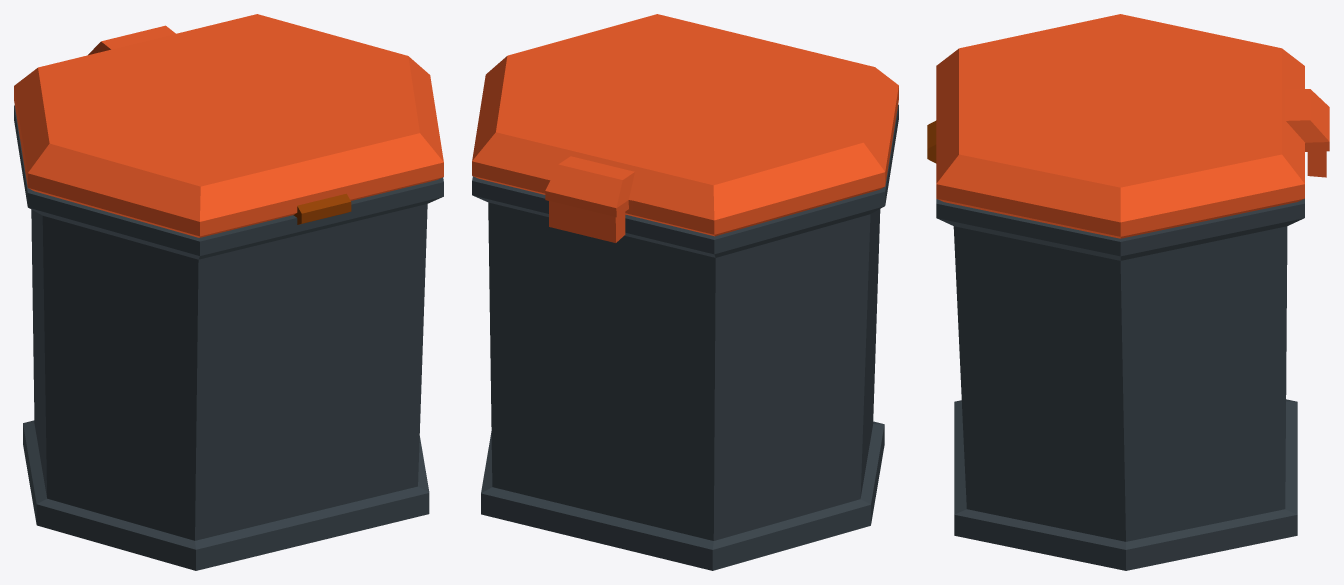
File: Compost_03.fbx
3 views of the same model, side by side, from view 1: azimuth 30°, elevation 25°; view 2: azimuth 150°, elevation 25°; view 3: azimuth 270°, elevation 25° (orthographic).
Parts seen in each view (by area): view 1: Compost_03; view 2: Compost_03; view 3: Compost_03.
Part boxes in pixels (<box>): Compost_03: <box>14,14,443,570</box>; Compost_03: <box>472,14,898,570</box>; Compost_03: <box>927,14,1329,570</box>.
Size of the model in its own units: 250 by 226 by 218.
